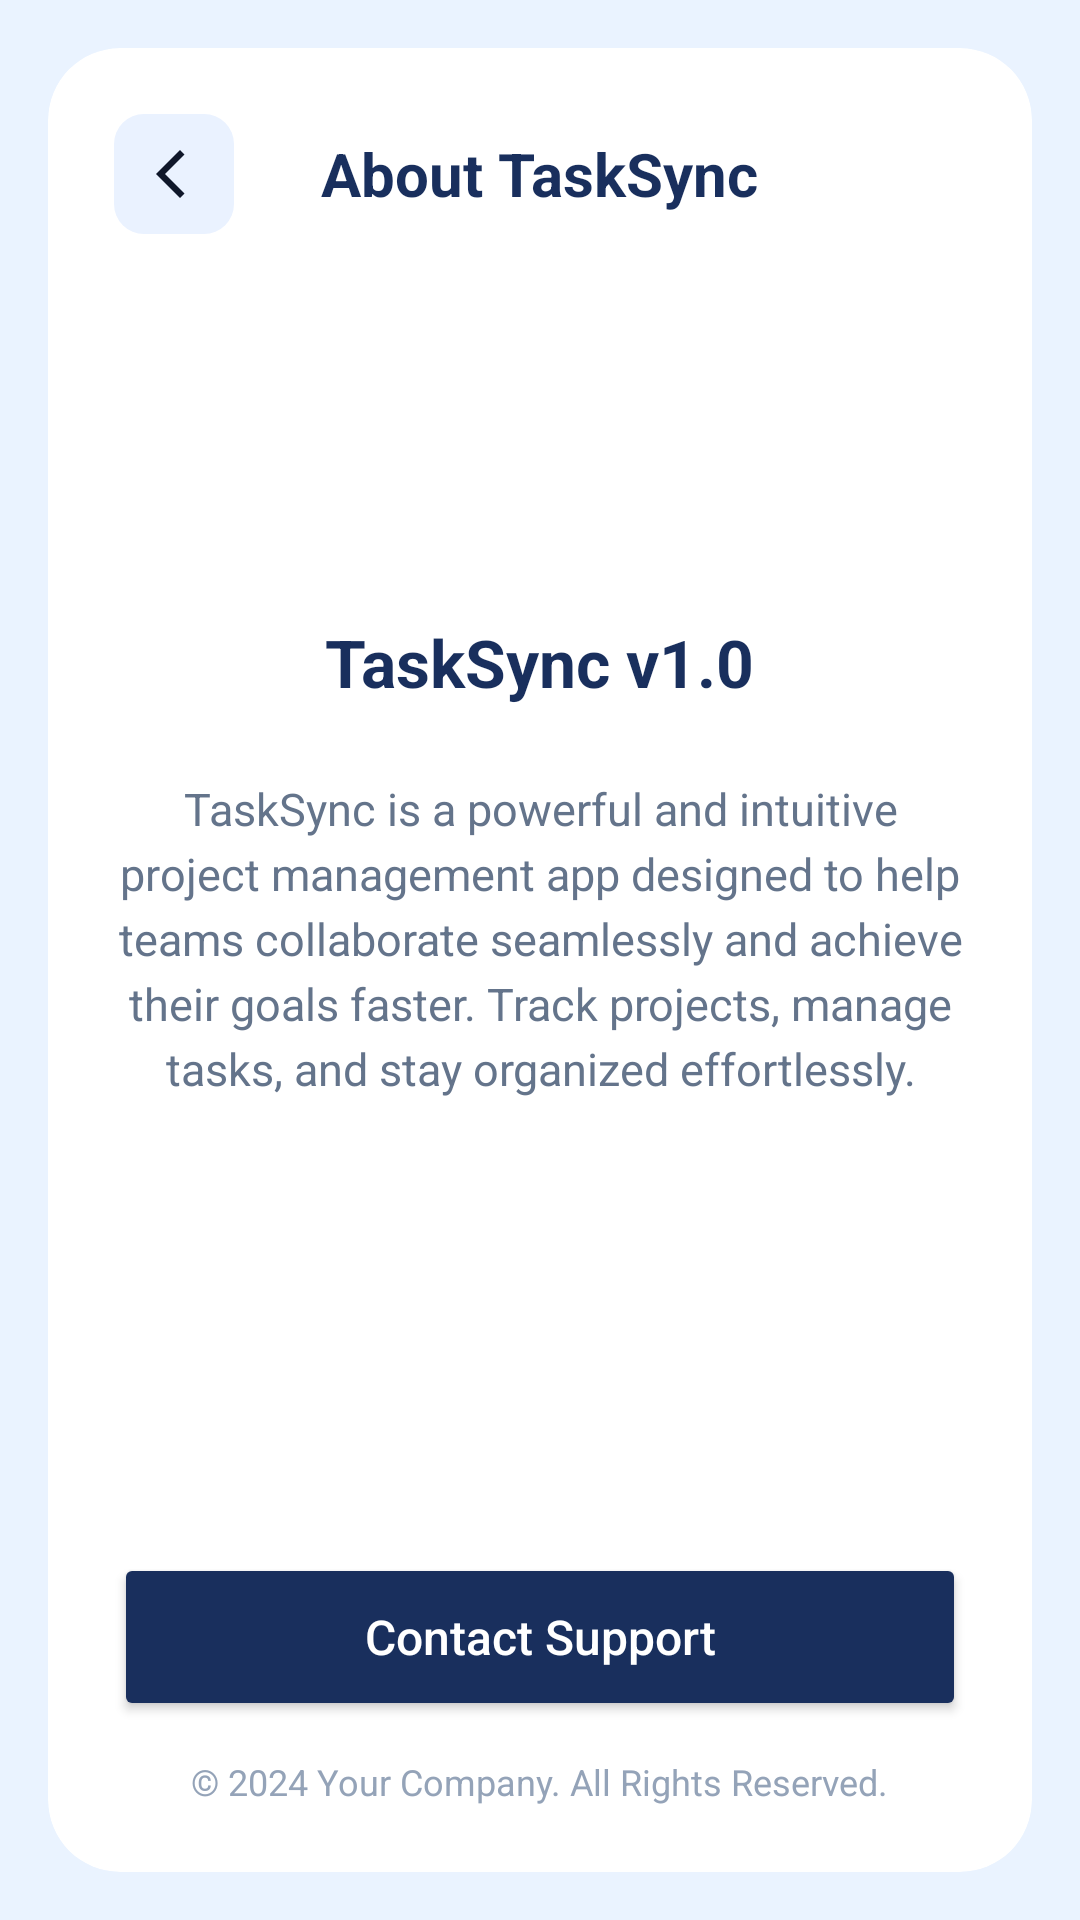

Icons on this 1080 x 1920 Android screen, each with the point to tap as (x=x, y=y):
back: (x=174, y=174)
